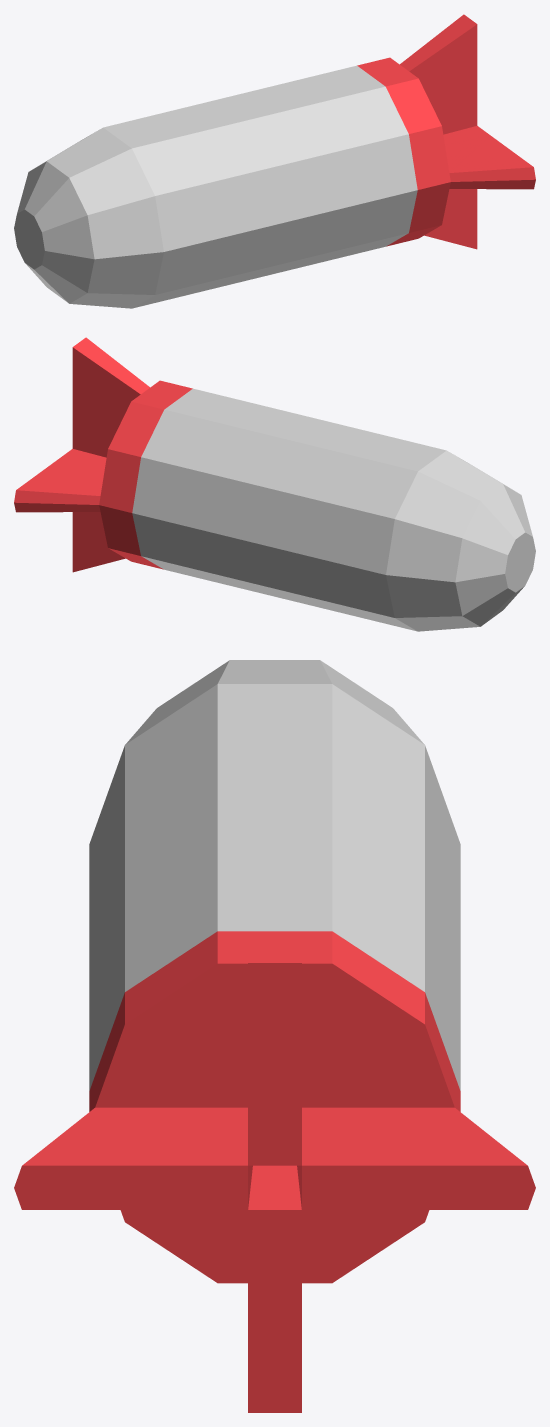
The model's file is Missile.fbx.
The picture shows the model from 3 angles, top to bottom: view 1: azimuth 30°, elevation 25°; view 2: azimuth 150°, elevation 25°; view 3: azimuth 270°, elevation 25°; orthographic projection. The views are drawn at different scales.
Parts seen in each view (by area): view 1: Cylinder.104, Cylinder.105; view 2: Cylinder.104, Cylinder.105; view 3: Cylinder.105, Cylinder.104.
Boxes of the visible parts, bbox=[...] form: Cylinder.104: bbox=[14, 65, 417, 308]; Cylinder.105: bbox=[357, 14, 535, 249]; Cylinder.104: bbox=[132, 388, 535, 631]; Cylinder.105: bbox=[14, 337, 192, 572]; Cylinder.105: bbox=[14, 931, 535, 1412]; Cylinder.104: bbox=[89, 660, 460, 1090].
Bounding box in the file's own units: 50.24 × 97.91 × 47.78.
